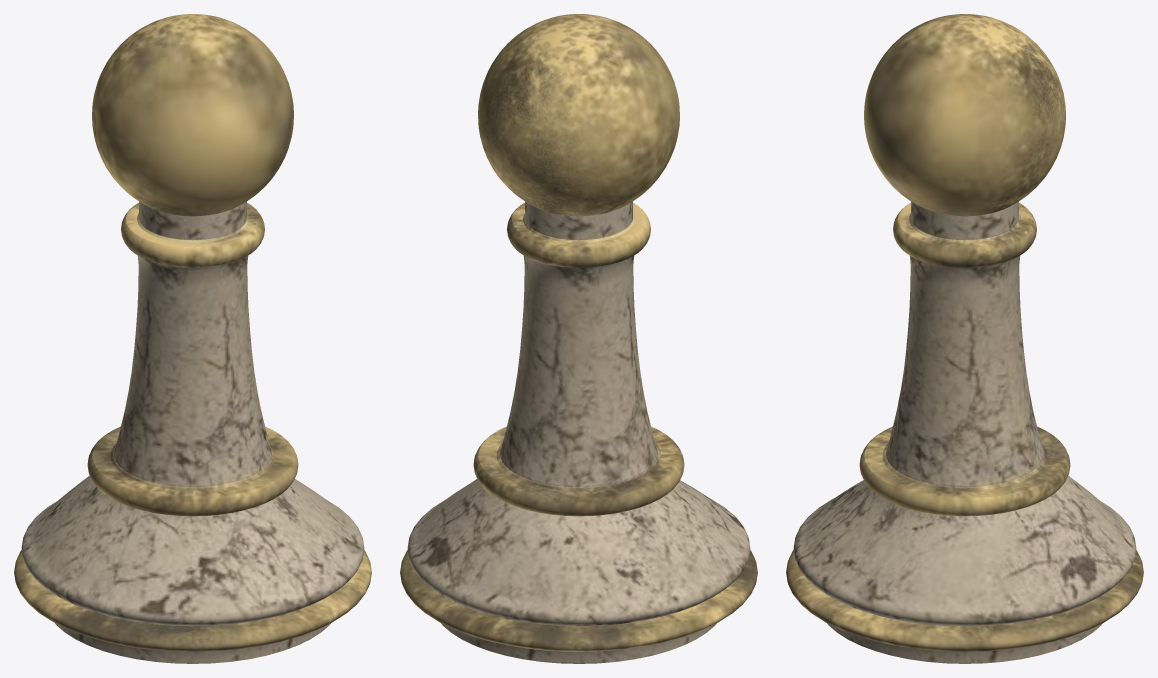
3 renders of one model, left to right at view 1: azimuth 30°, elevation 25°; view 2: azimuth 150°, elevation 25°; view 3: azimuth 270°, elevation 25°, orthographic.
Visible parts, largest first — view 1: x; view 2: x; view 3: x.
Boxes of the visible parts, x1,y1,x2,y2 form: x: [14, 14, 371, 663]; x: [400, 14, 757, 663]; x: [786, 14, 1143, 663].
Bounding box in the file's own units: 0.5034 × 0.9 × 0.5034.
1 material, 1 textured.
